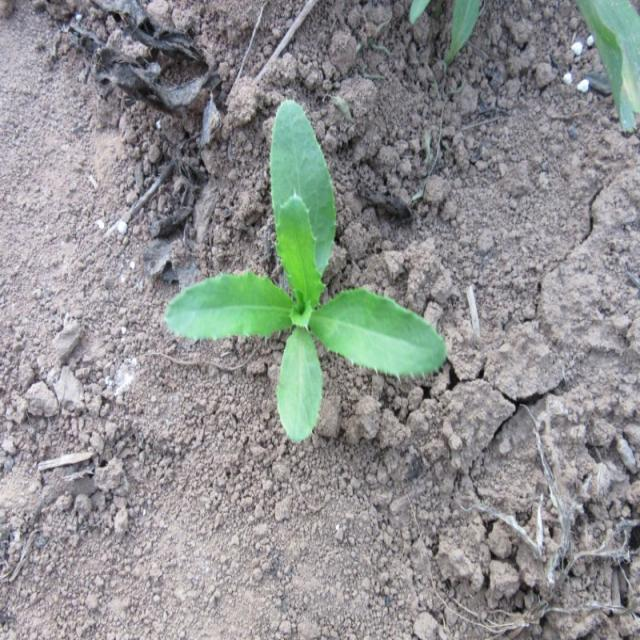cs: (162, 99, 449, 445)
